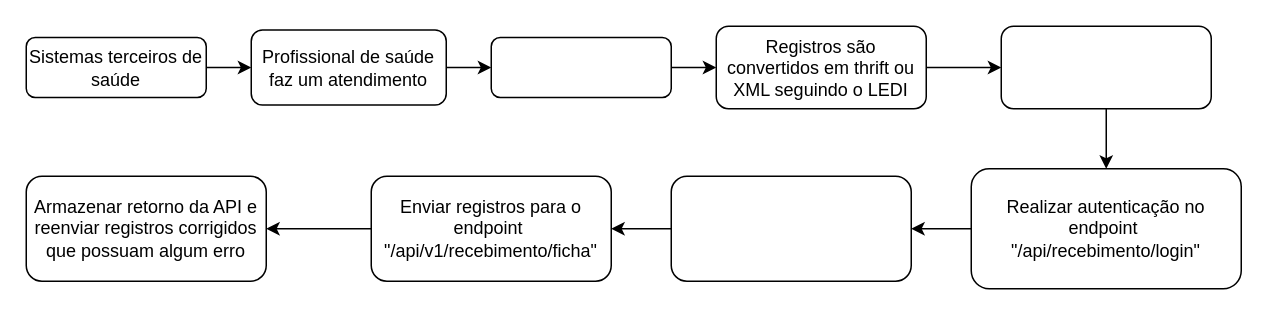
The diagram is 1268 pixels wide and 315 high, and some of its shapes have lost their labels. The shapes that lost their labels are listed below. From the top down, each one's box as (x1, y1, x2, y2) in pixels, then its label:
(490, 36, 671, 98): Atendimentos geram registros
(1000, 25, 1211, 109): Enviar informações para o PEC via API
(670, 175, 911, 281): Serializar registro thrift ou XML em binário
